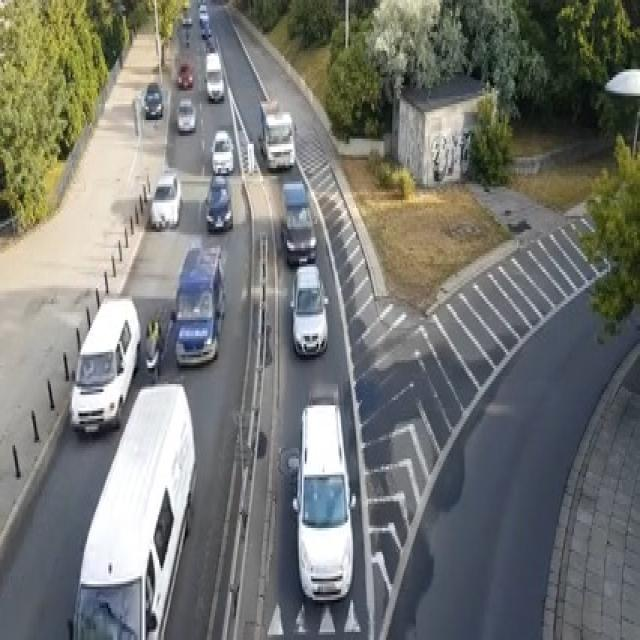bus: (69, 379, 197, 637), (69, 293, 141, 435)
car: (290, 394, 355, 602), (173, 243, 225, 365), (288, 264, 328, 357), (279, 178, 317, 266), (258, 98, 294, 170), (149, 171, 182, 229), (204, 173, 233, 232), (210, 128, 233, 173), (204, 51, 224, 101), (141, 83, 164, 117), (176, 99, 195, 133), (178, 61, 192, 88), (198, 3, 209, 24), (200, 22, 212, 38), (182, 13, 192, 27)
